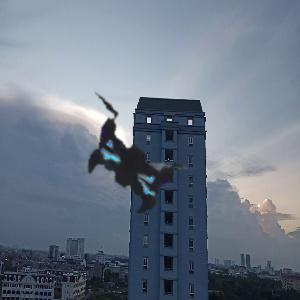drone: (18, 43, 253, 278)
